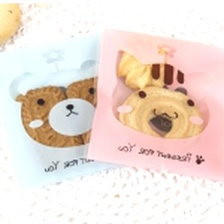snack: (77, 22, 223, 186), (0, 28, 131, 196)
